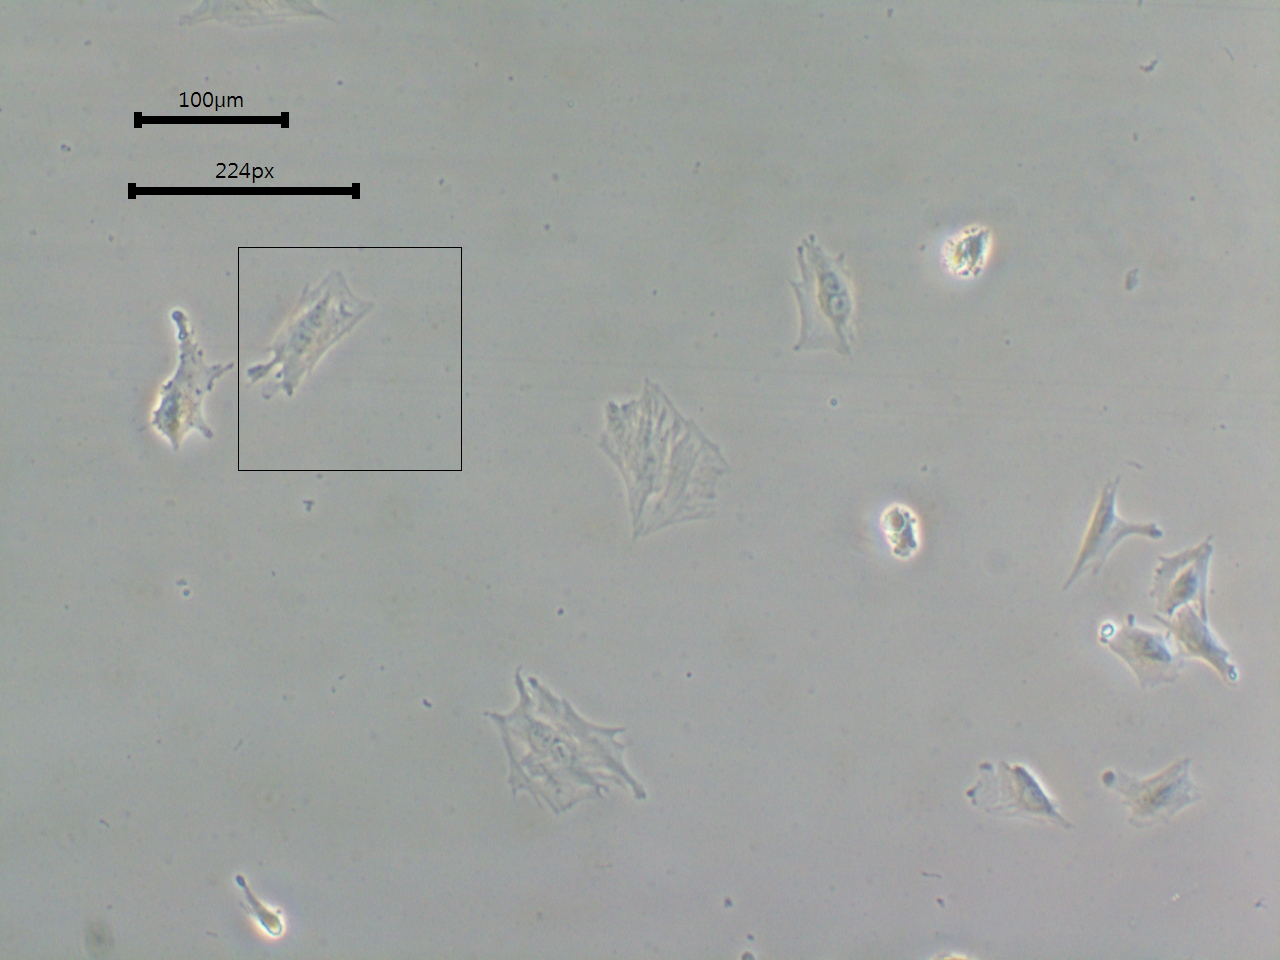dividing: (484, 658, 661, 846), (245, 266, 382, 417), (772, 232, 869, 384)
medium-polygonal: (1059, 481, 1163, 590)
medium-spread: (589, 371, 745, 556), (148, 305, 230, 459), (952, 754, 1077, 840), (1098, 753, 1208, 837), (1104, 621, 1183, 693)
small-polygonal: (224, 866, 291, 947)
